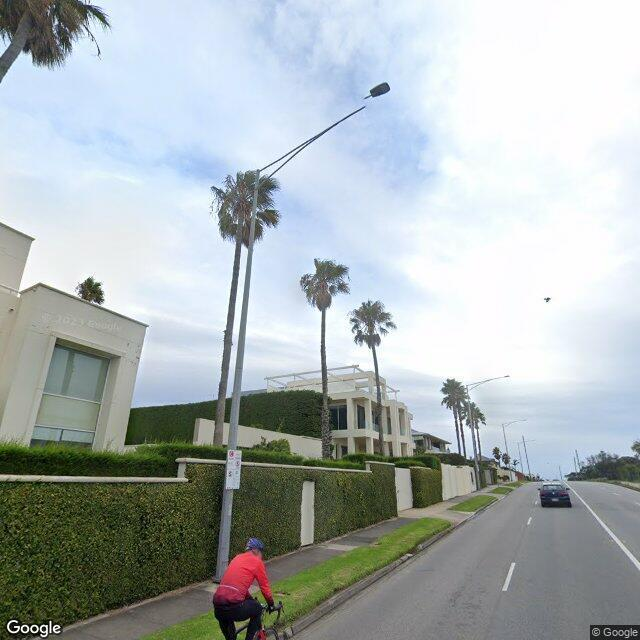steel-pole: (214, 170, 260, 582), (466, 384, 481, 491), (502, 424, 513, 481)
streetlight: (259, 81, 390, 187), (468, 375, 510, 391), (504, 419, 528, 427)
